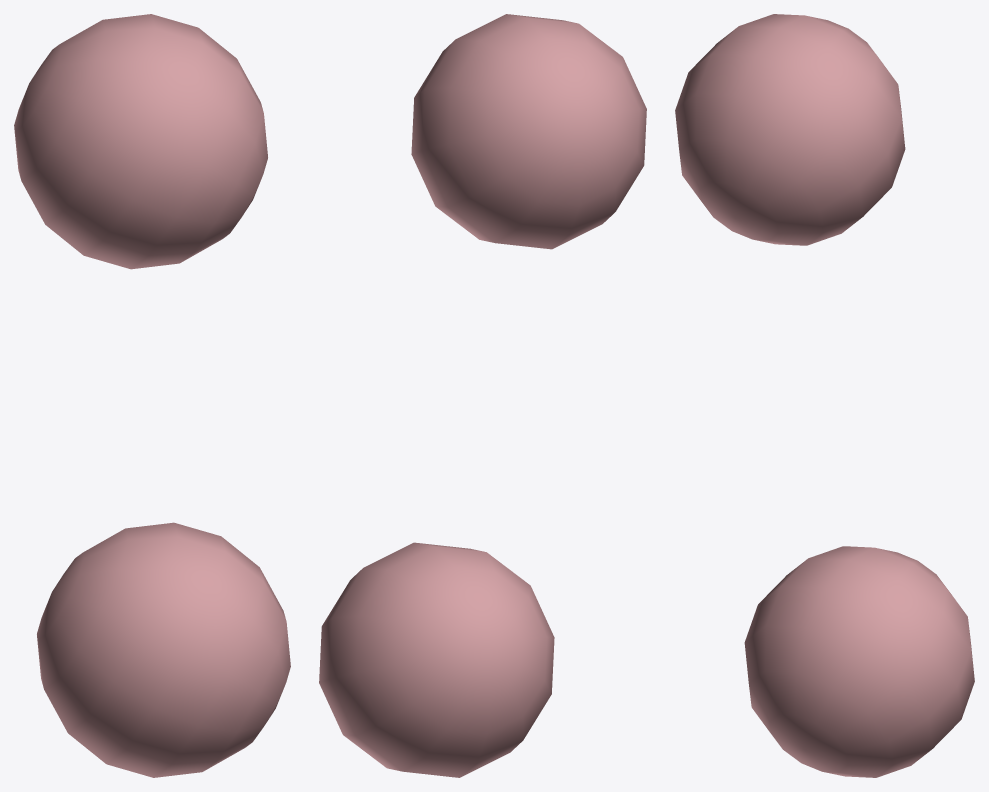
3 renders of one model, left to right at view 1: azimuth 30°, elevation 25°; view 2: azimuth 150°, elevation 25°; view 3: azimuth 270°, elevation 25°, orthographic. The views are drawn at different scales.
Visible parts, largest first — view 1: ZA_e55de966cbcede81; view 2: ZA_e55de966cbcede81; view 3: ZA_e55de966cbcede81.
Boxes of the visible parts, <box> form: ZA_e55de966cbcede81: <box>14,14,290,777</box>; ZA_e55de966cbcede81: <box>319,14,646,777</box>; ZA_e55de966cbcede81: <box>675,14,974,777</box>.
Bounding box in the file's own units: 0.0033 × 0.00875 × 0.00332.
